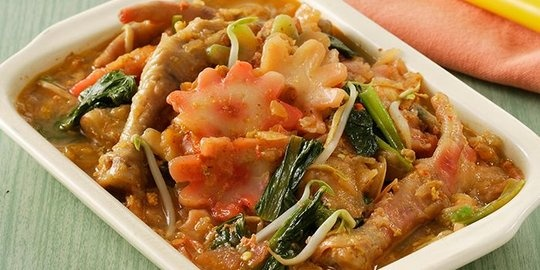seblak: (20, 2, 522, 270)
